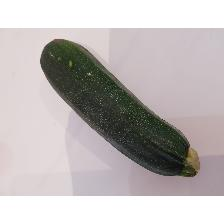Zucchini: (36, 34, 204, 184)
